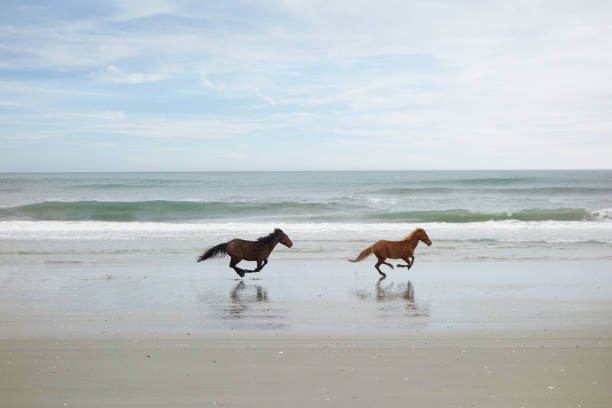Horse: (201, 223, 294, 296), (354, 221, 435, 287)
